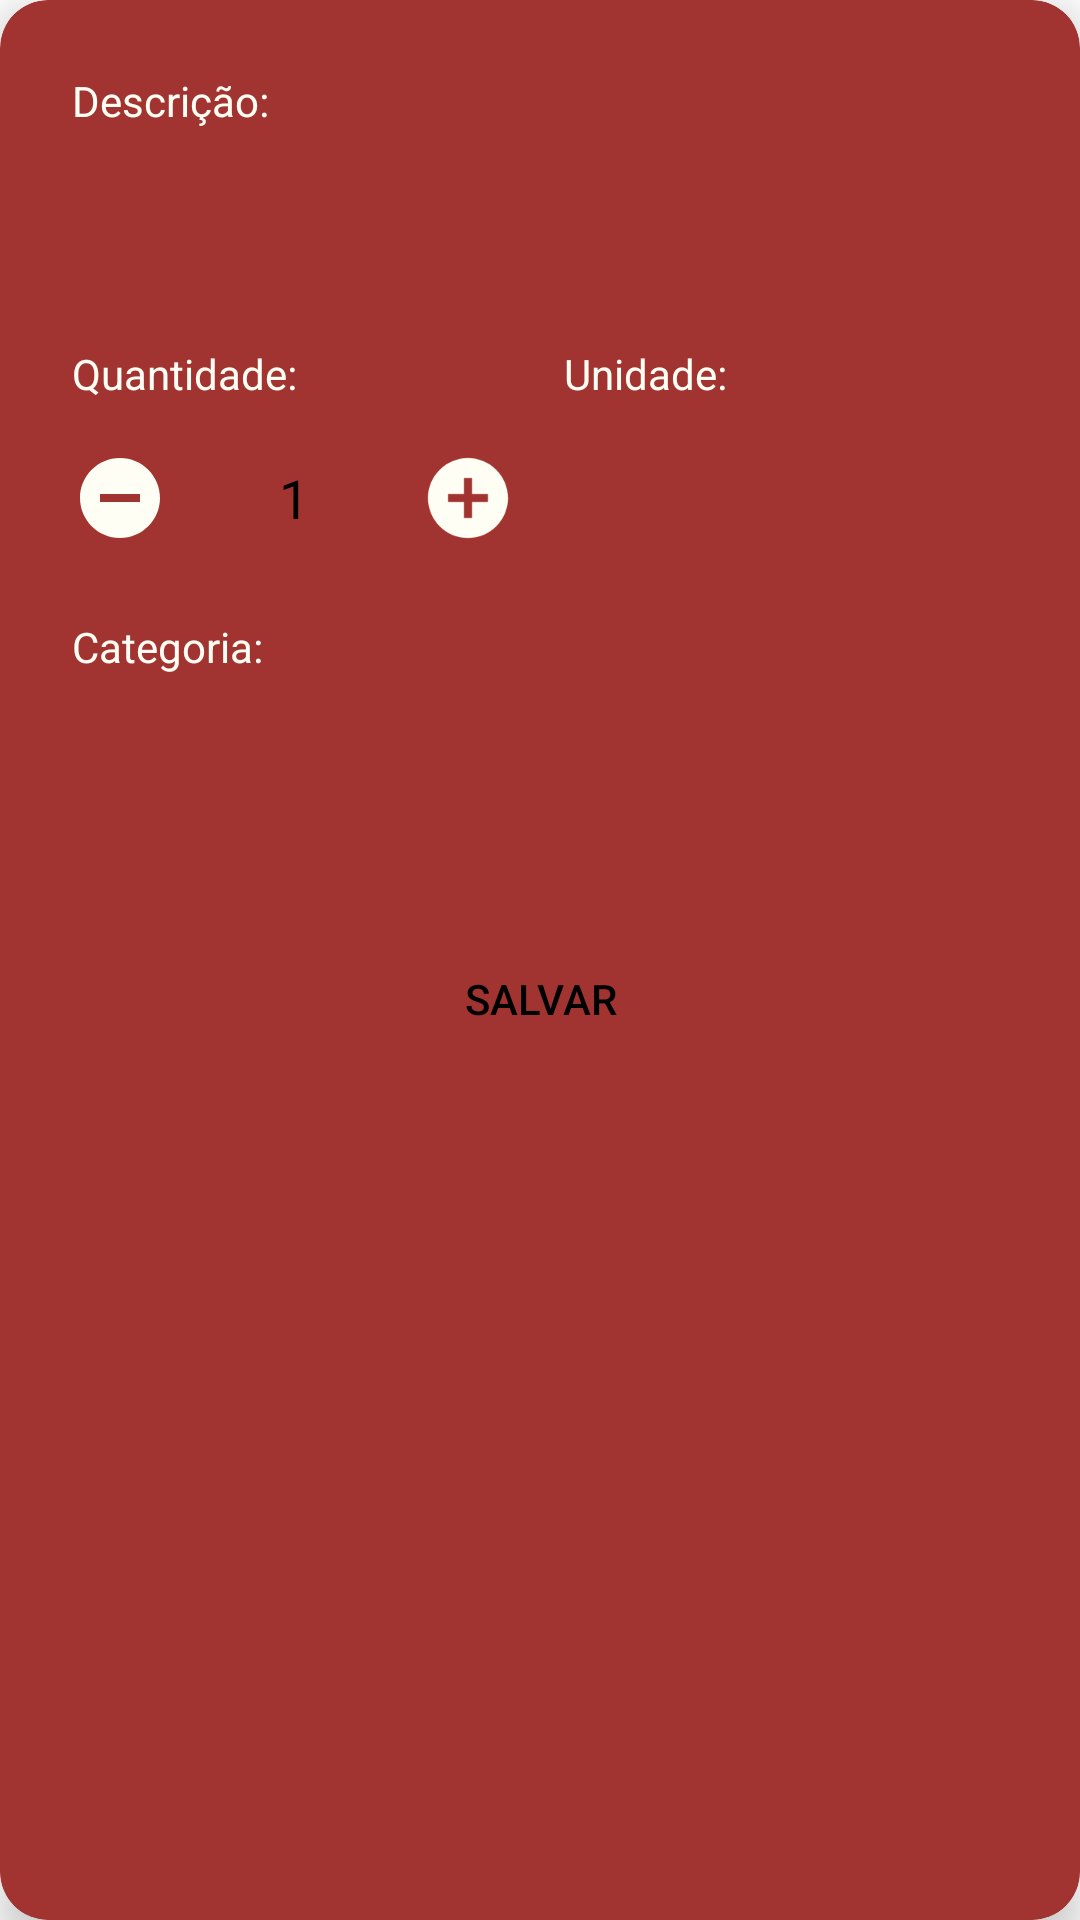

Screen size 1080px×1920px. Icon name, then its center in pixels as (x,y):
Aumentar: (468,498)
Diminuir: (120,498)
